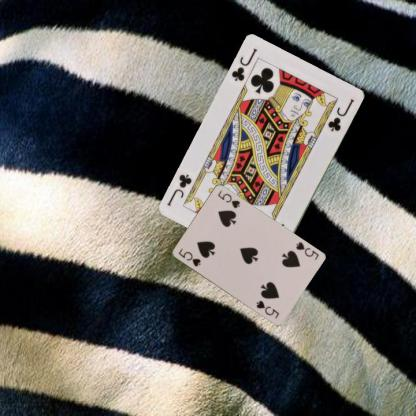5s: (293, 239, 320, 261), (176, 246, 202, 268)
Jc: (229, 46, 259, 83)
